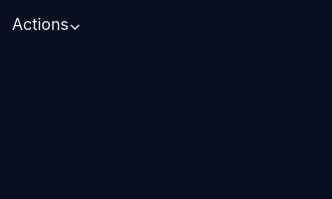
Test case: dropdown skips disabled actions, closes on selection and returns focus
Press ArrowUp in the button "Actions ⌄", box [12,12,81,36]
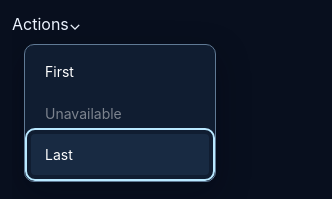
Press ArrowDown in the menu, box [24,44,216,182]
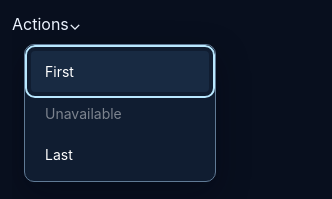
Press ArrowDown in the menu, box [24,44,216,182]
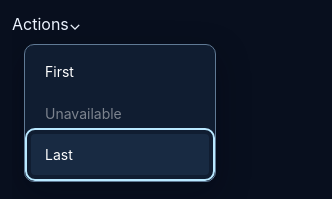
Click the menu item "Last": coordinates (120, 155) [31,134,209,175]
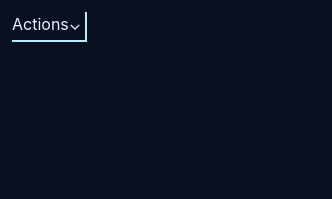
Expected: the menu is gone
